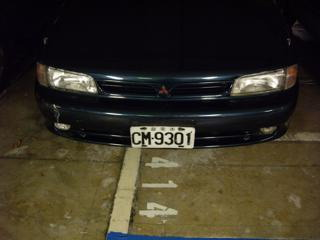plate: (128, 124, 195, 151)
